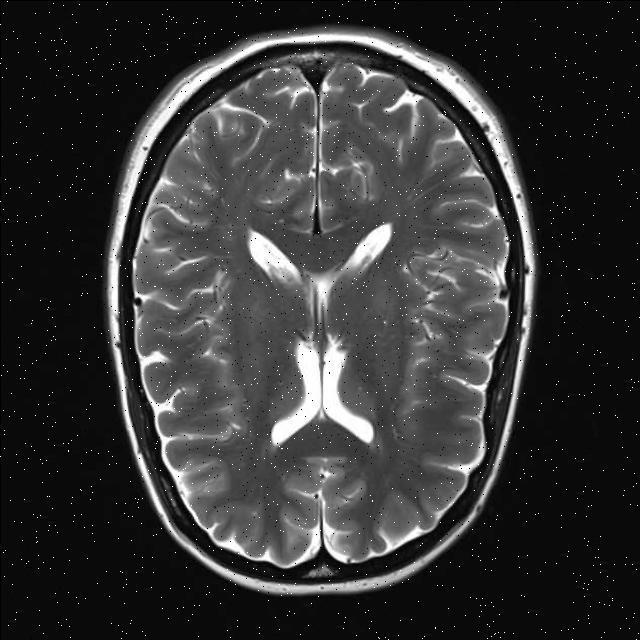No_Tumor: (106, 28, 535, 594)
